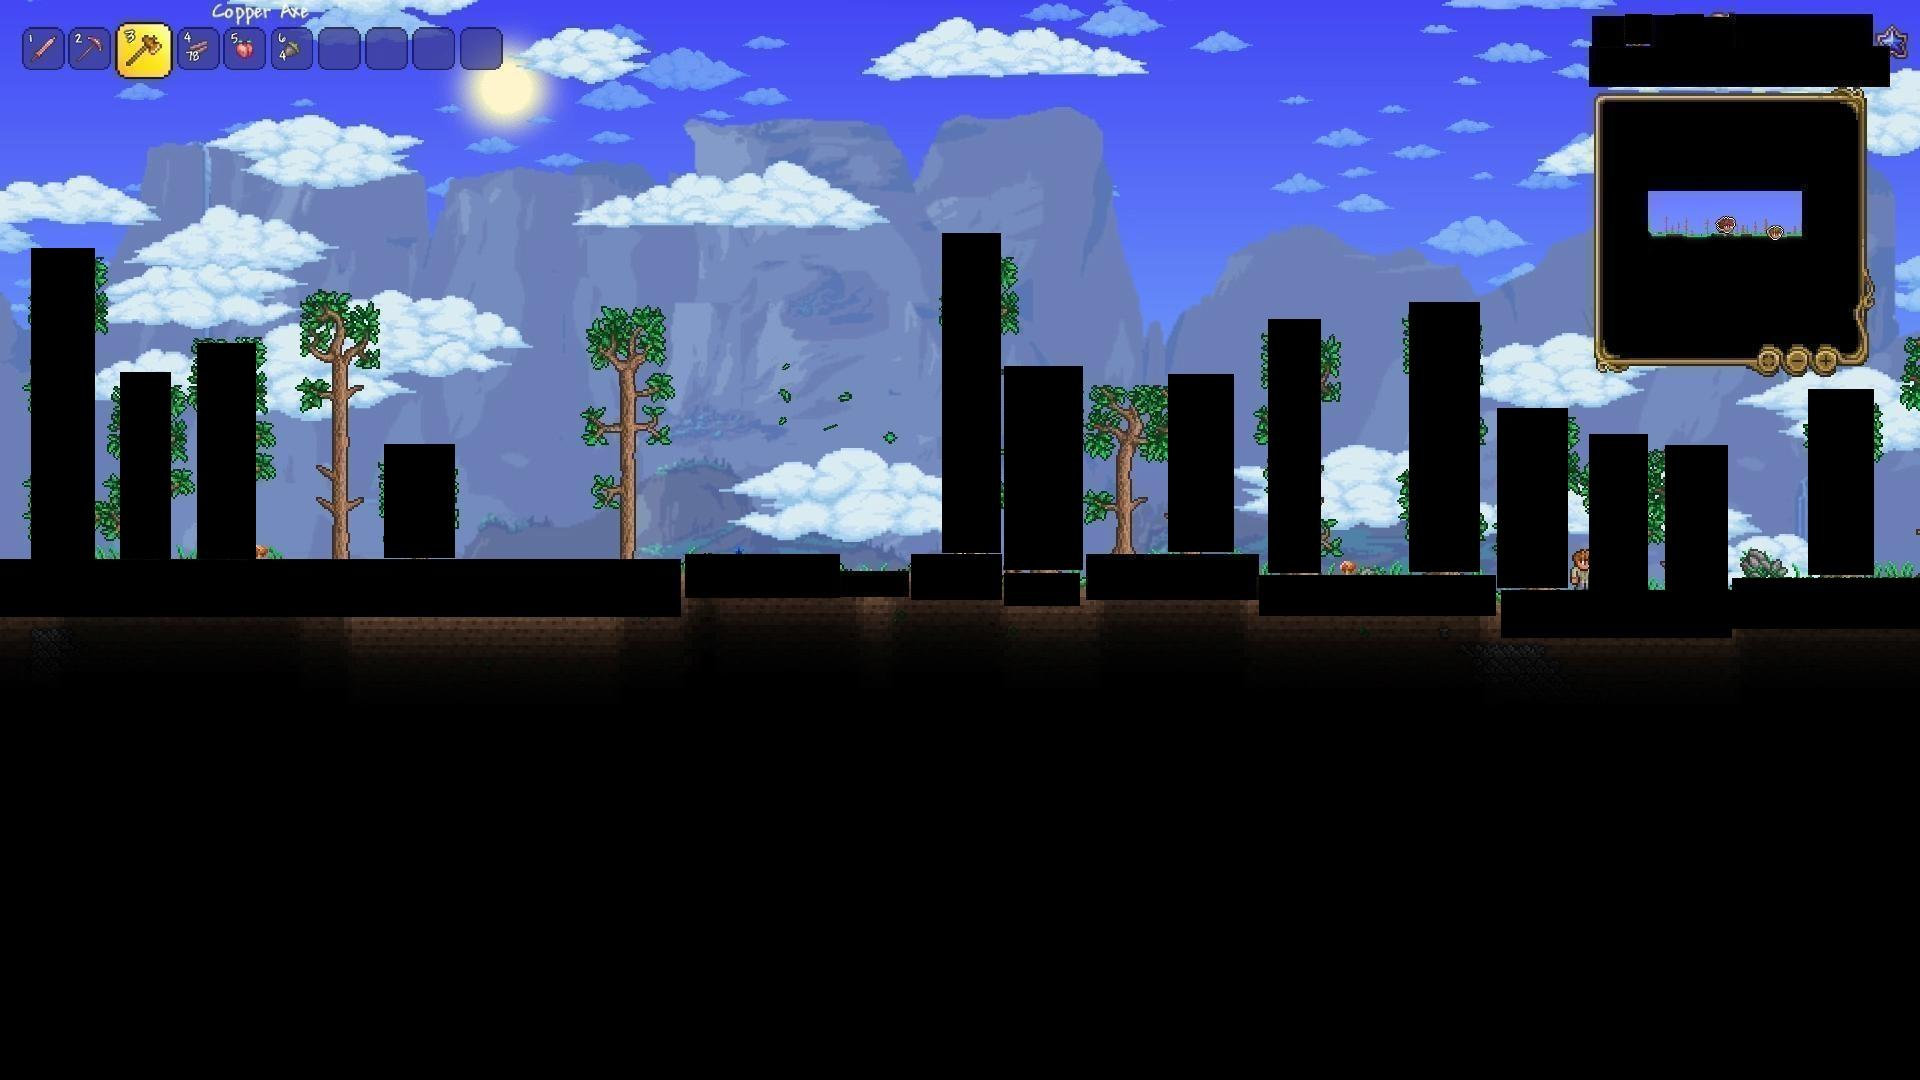tree: (582, 302, 655, 556), (302, 295, 363, 559), (1098, 380, 1160, 551)
wood: (185, 32, 214, 61)
